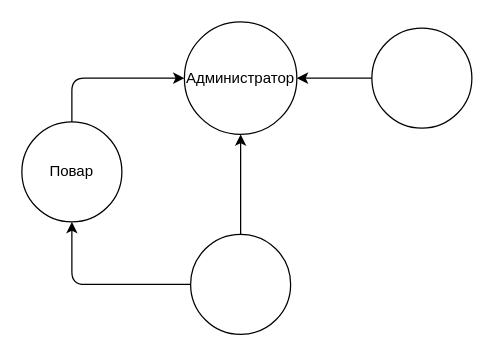
The diagram is 494 pixels wide and 356 high, and some of its shapes have lost their labels. Each missing label, with the box of its shape:
Мойщик-Уборщик: (371, 27, 472, 128)
Продавец: (189, 233, 291, 334)
